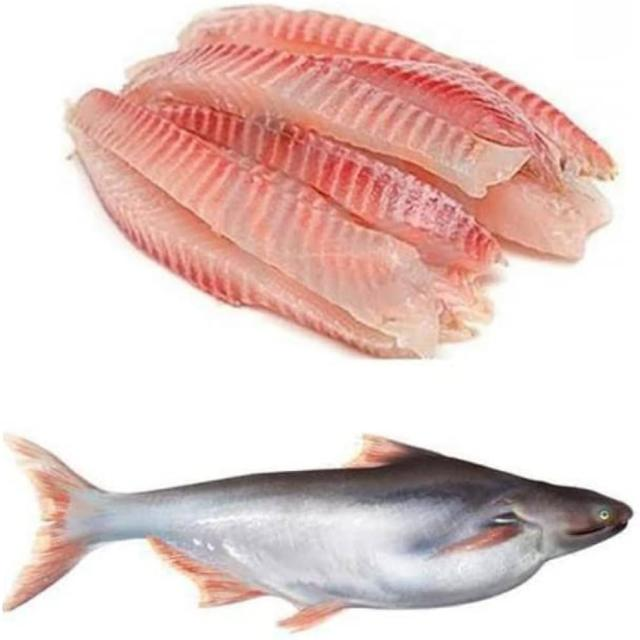Catfish: (71, 1, 624, 362), (0, 436, 627, 630)
